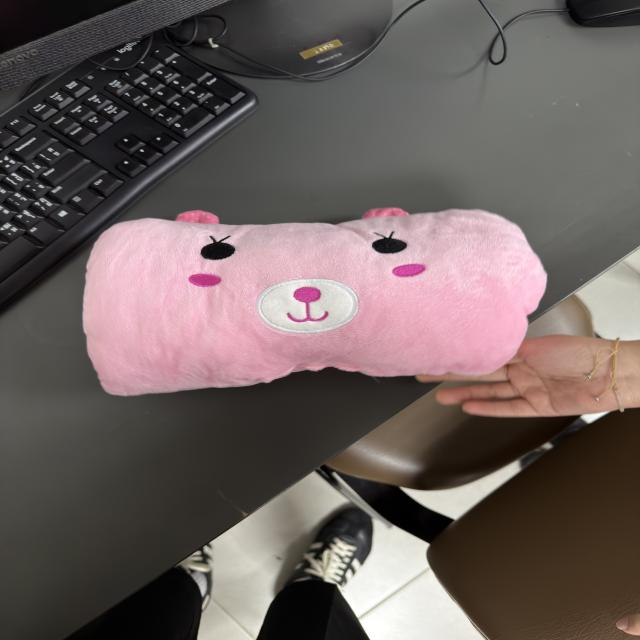pinkpillow: (80, 200, 549, 394)
